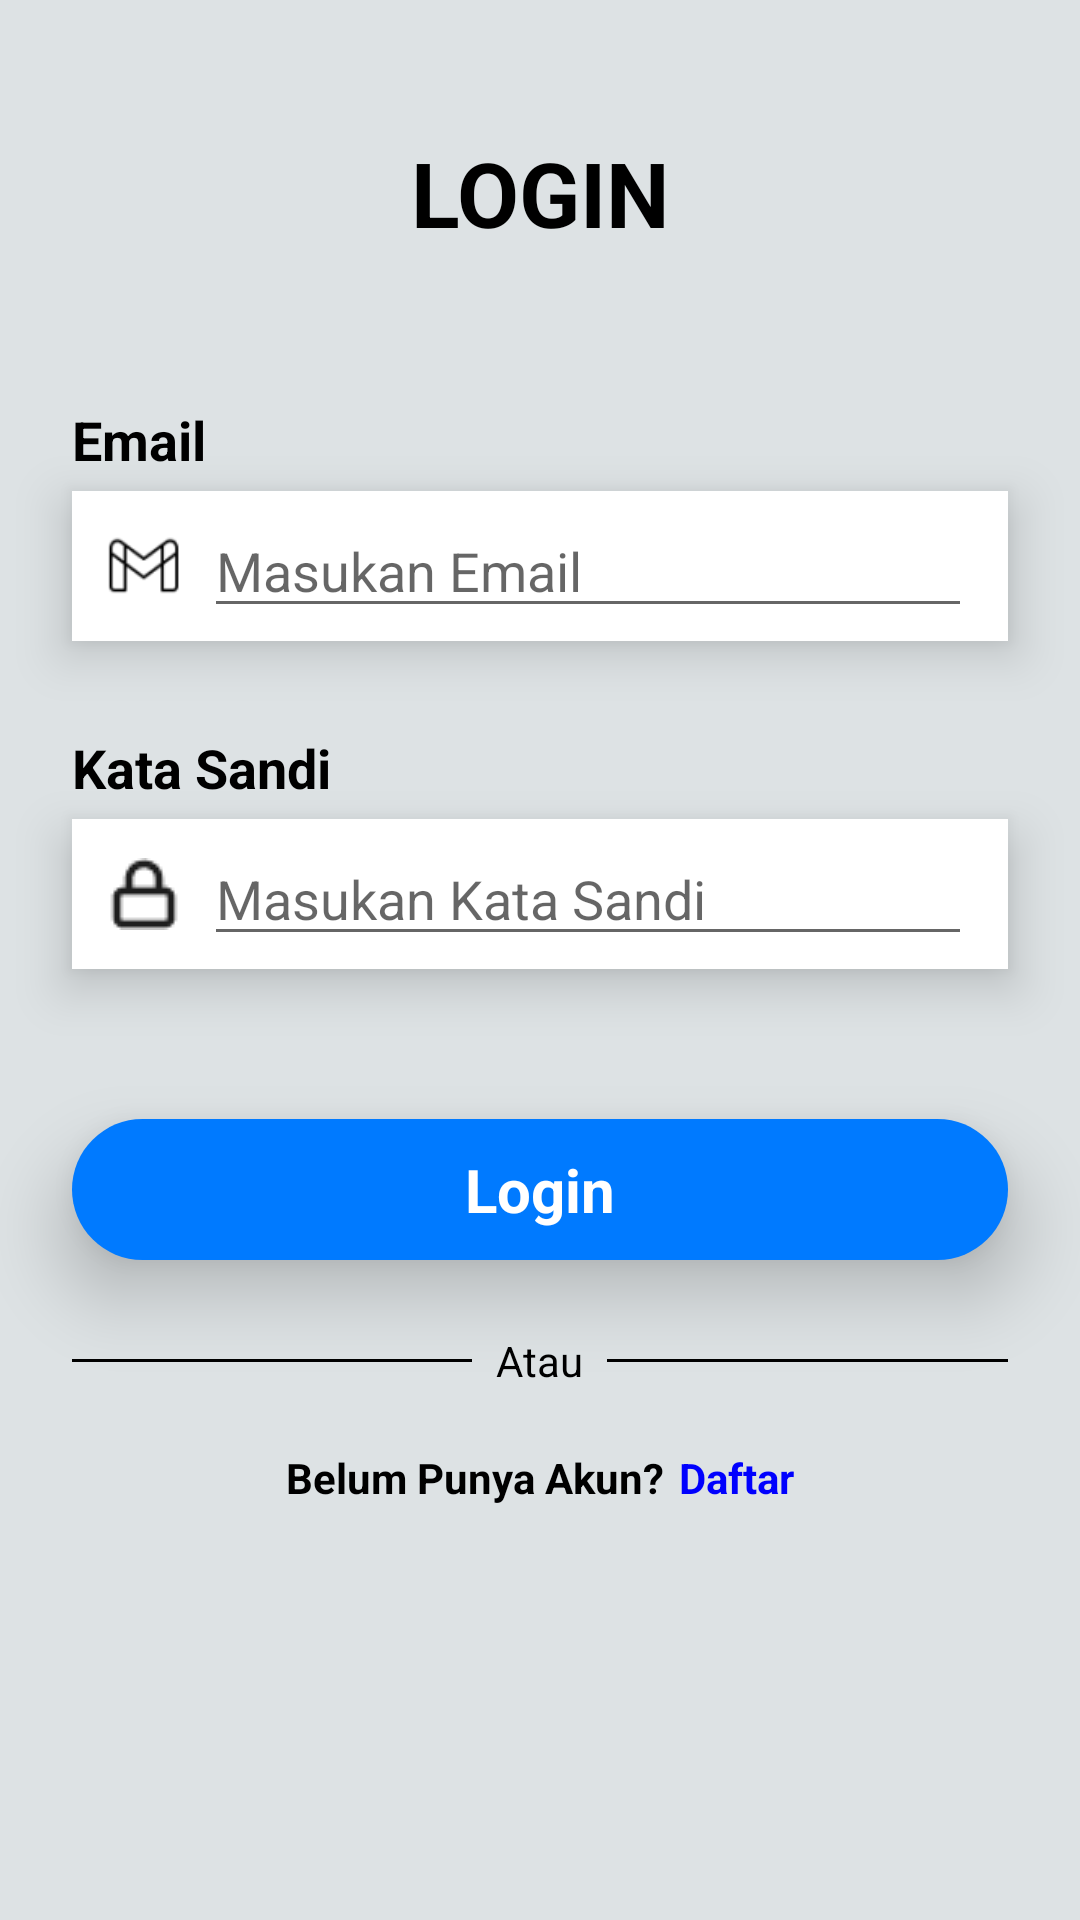

Icon bounding boxes for this 1080×1920 phone screenshot, format (x1=x1, y1=y1, x2=x2, y2=y2):
lock: (x1=111, y1=858, x2=177, y2=930)
